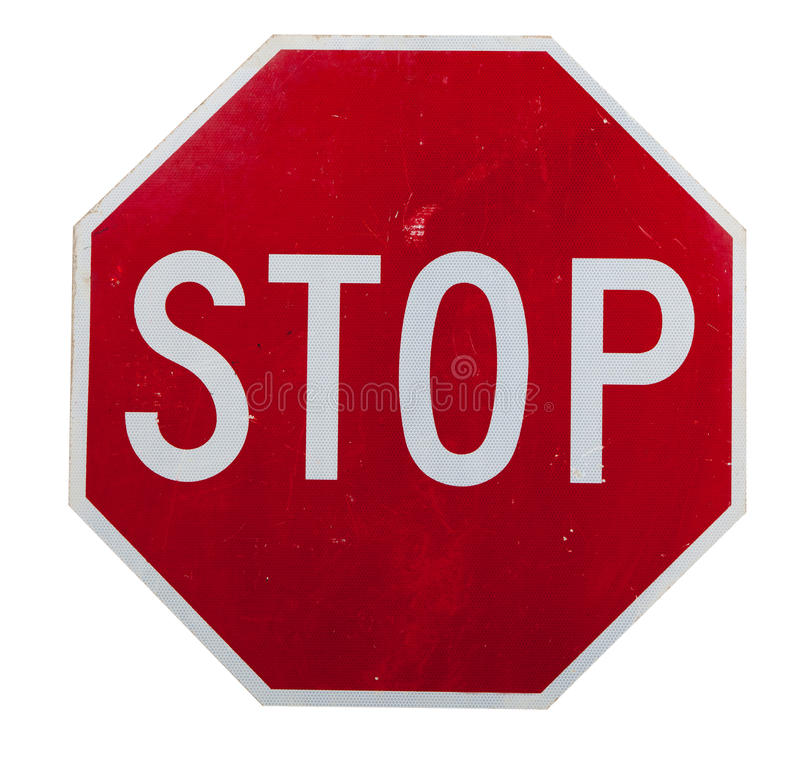Stop: (62, 27, 752, 716)
